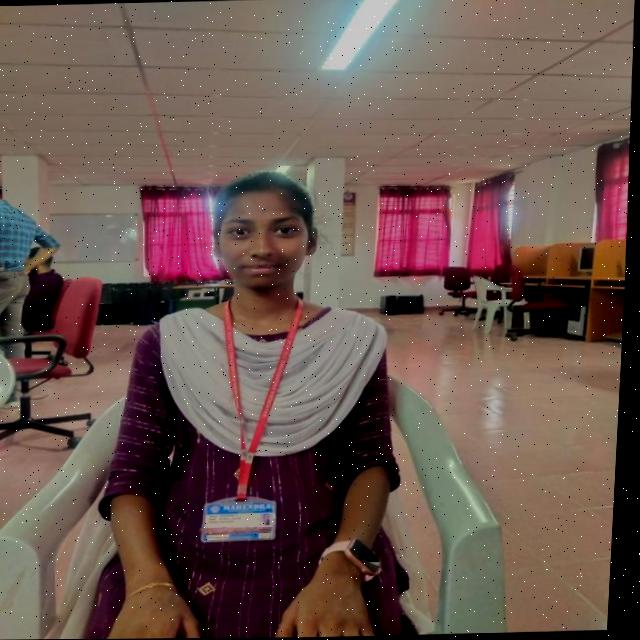id_card: (192, 288, 324, 550)
